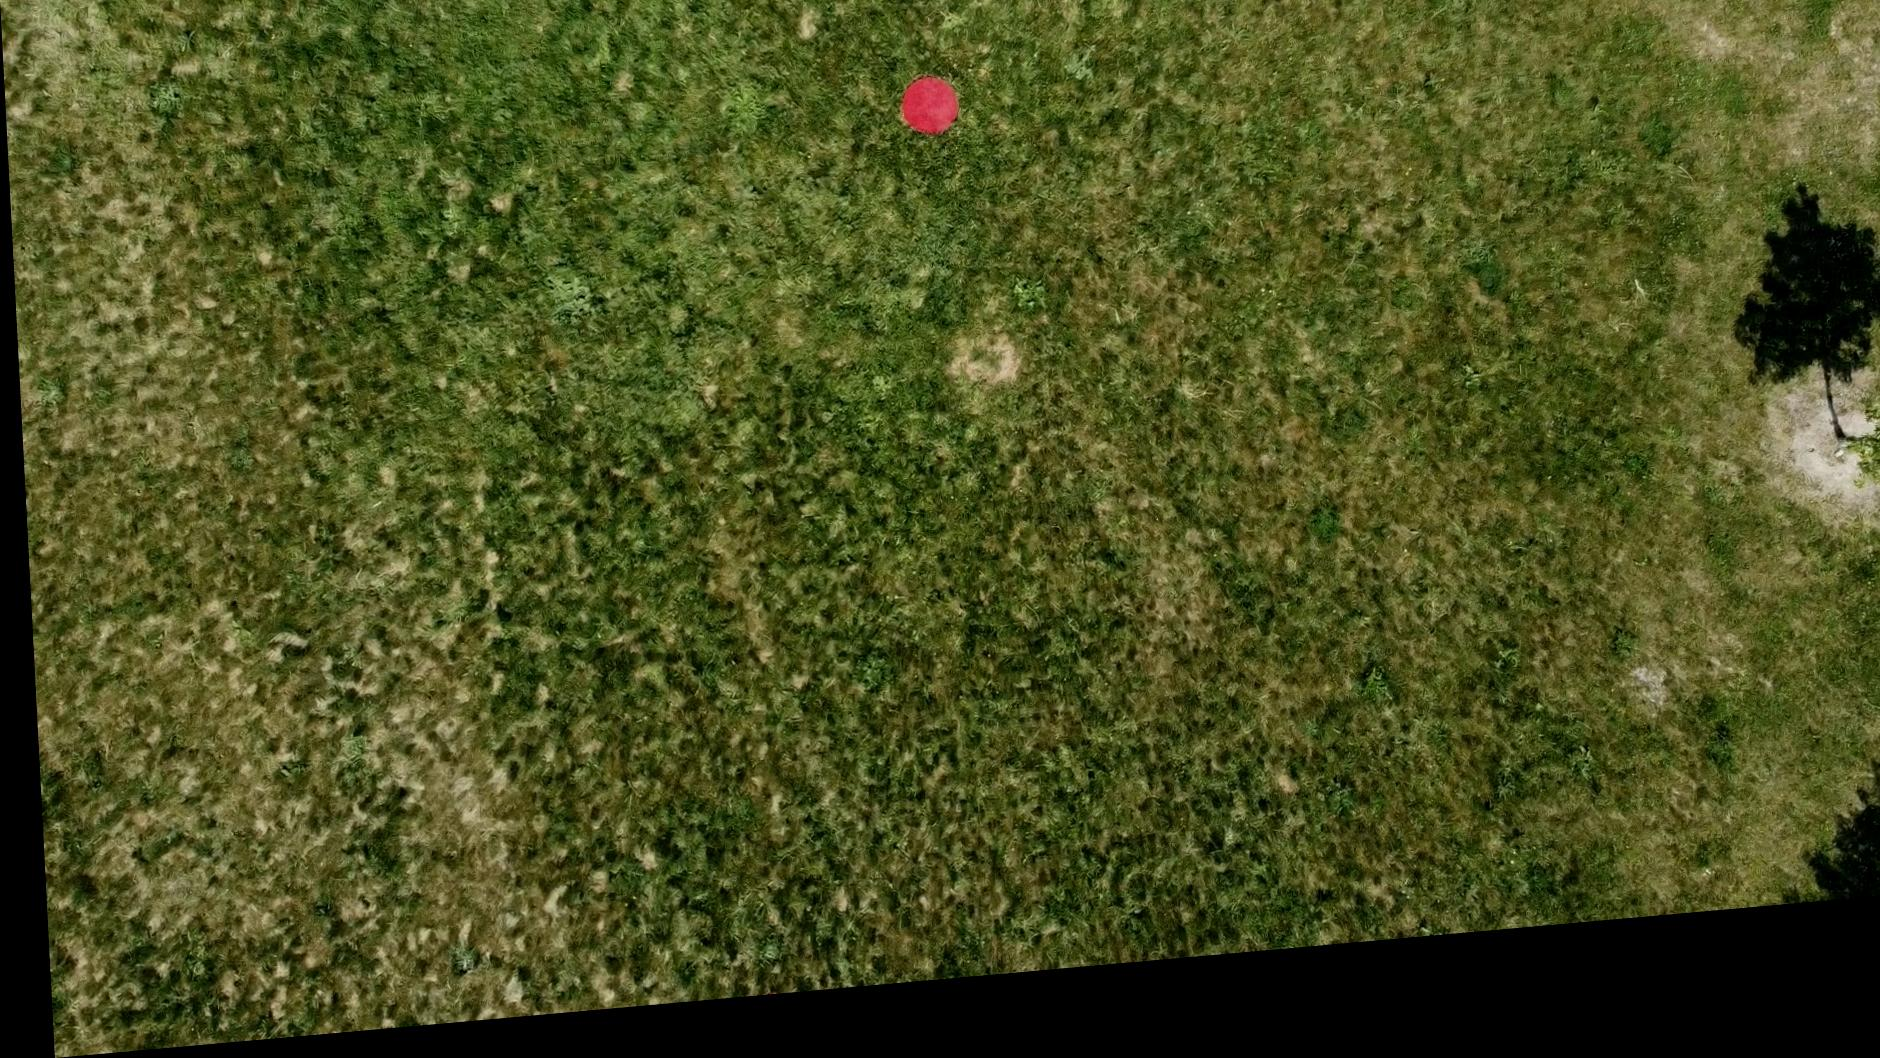Red: (896, 89, 959, 156)
